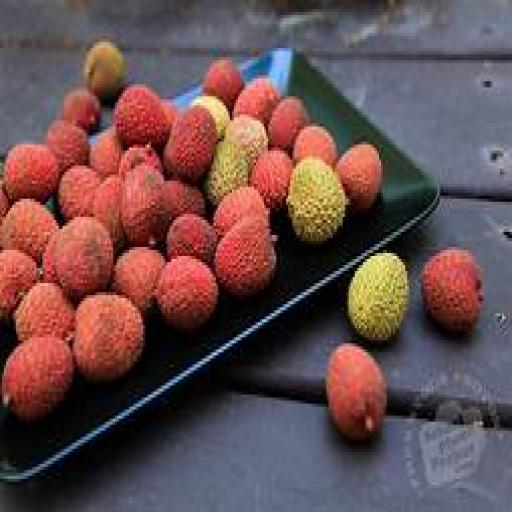lychee: (73, 293, 145, 382), (3, 335, 74, 421), (327, 344, 387, 439), (347, 253, 409, 340), (422, 247, 483, 331), (287, 157, 346, 243), (214, 217, 276, 298), (55, 217, 112, 301), (156, 256, 217, 331), (164, 106, 217, 183), (0, 199, 58, 262), (113, 247, 165, 316), (121, 166, 167, 243), (113, 85, 169, 147), (15, 284, 74, 340), (335, 142, 382, 210), (5, 145, 60, 201), (204, 139, 249, 204), (0, 250, 38, 322), (214, 187, 268, 237), (83, 40, 126, 102), (250, 148, 292, 210), (168, 214, 217, 265), (93, 175, 124, 252), (234, 76, 280, 126), (226, 115, 268, 168), (269, 97, 308, 153), (47, 121, 88, 174), (202, 58, 243, 111), (59, 166, 100, 219), (293, 124, 336, 165), (61, 88, 100, 132), (164, 181, 205, 222), (89, 130, 122, 180), (119, 145, 163, 180), (192, 97, 229, 138), (43, 232, 58, 283), (162, 100, 179, 129)
